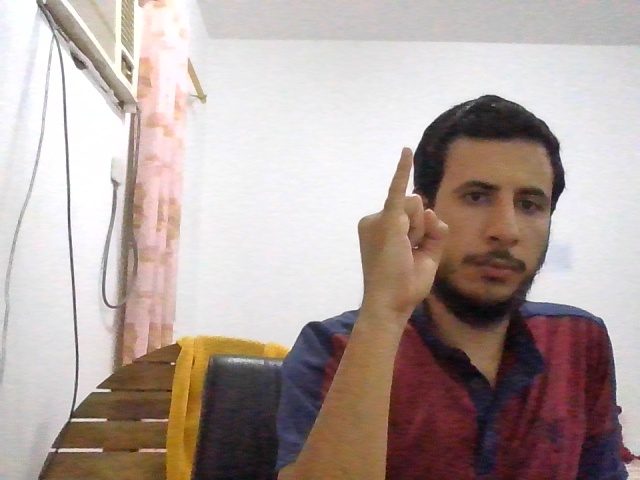One: (357, 147, 450, 307)
